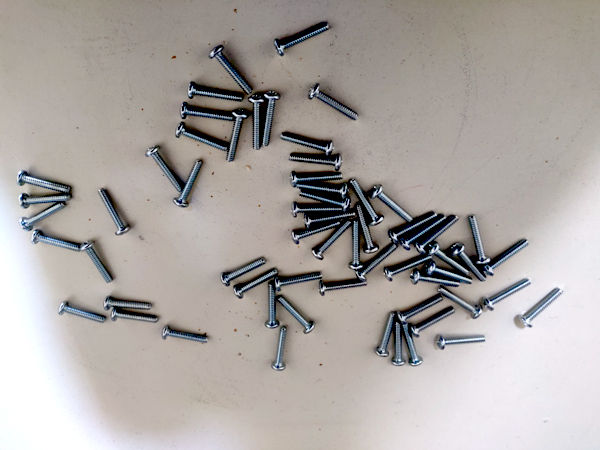longscrew: (306, 84, 362, 122), (210, 46, 251, 96), (272, 22, 332, 53), (79, 237, 115, 286), (146, 148, 187, 191), (520, 288, 565, 327), (95, 188, 130, 238), (484, 239, 532, 275), (390, 205, 434, 242), (370, 184, 415, 220), (417, 217, 461, 253), (402, 216, 446, 252), (173, 163, 207, 209), (352, 247, 400, 279), (439, 287, 485, 320), (15, 165, 69, 193), (487, 280, 532, 313), (174, 124, 227, 152), (186, 79, 244, 104), (180, 96, 238, 121), (352, 180, 382, 227), (312, 224, 351, 260), (428, 243, 471, 275), (17, 203, 67, 230), (219, 259, 265, 288), (386, 254, 433, 281), (281, 299, 317, 334), (454, 244, 486, 282), (399, 297, 442, 325), (414, 307, 454, 337), (236, 271, 278, 299), (58, 303, 105, 327), (31, 230, 78, 254), (467, 215, 490, 264), (287, 225, 342, 245), (355, 203, 376, 253), (262, 91, 281, 146), (227, 110, 246, 165), (296, 180, 350, 199), (298, 189, 351, 208), (289, 171, 342, 190), (289, 153, 342, 172), (280, 134, 333, 153), (249, 96, 267, 151), (427, 262, 473, 283), (411, 268, 457, 289), (390, 324, 412, 367), (371, 316, 393, 359), (403, 326, 425, 368), (262, 287, 283, 330), (268, 330, 289, 372), (272, 274, 321, 291), (286, 203, 345, 217), (435, 337, 489, 352), (318, 278, 367, 294), (163, 328, 212, 344), (111, 309, 160, 325), (103, 294, 151, 310), (299, 214, 358, 227), (17, 195, 77, 205)
